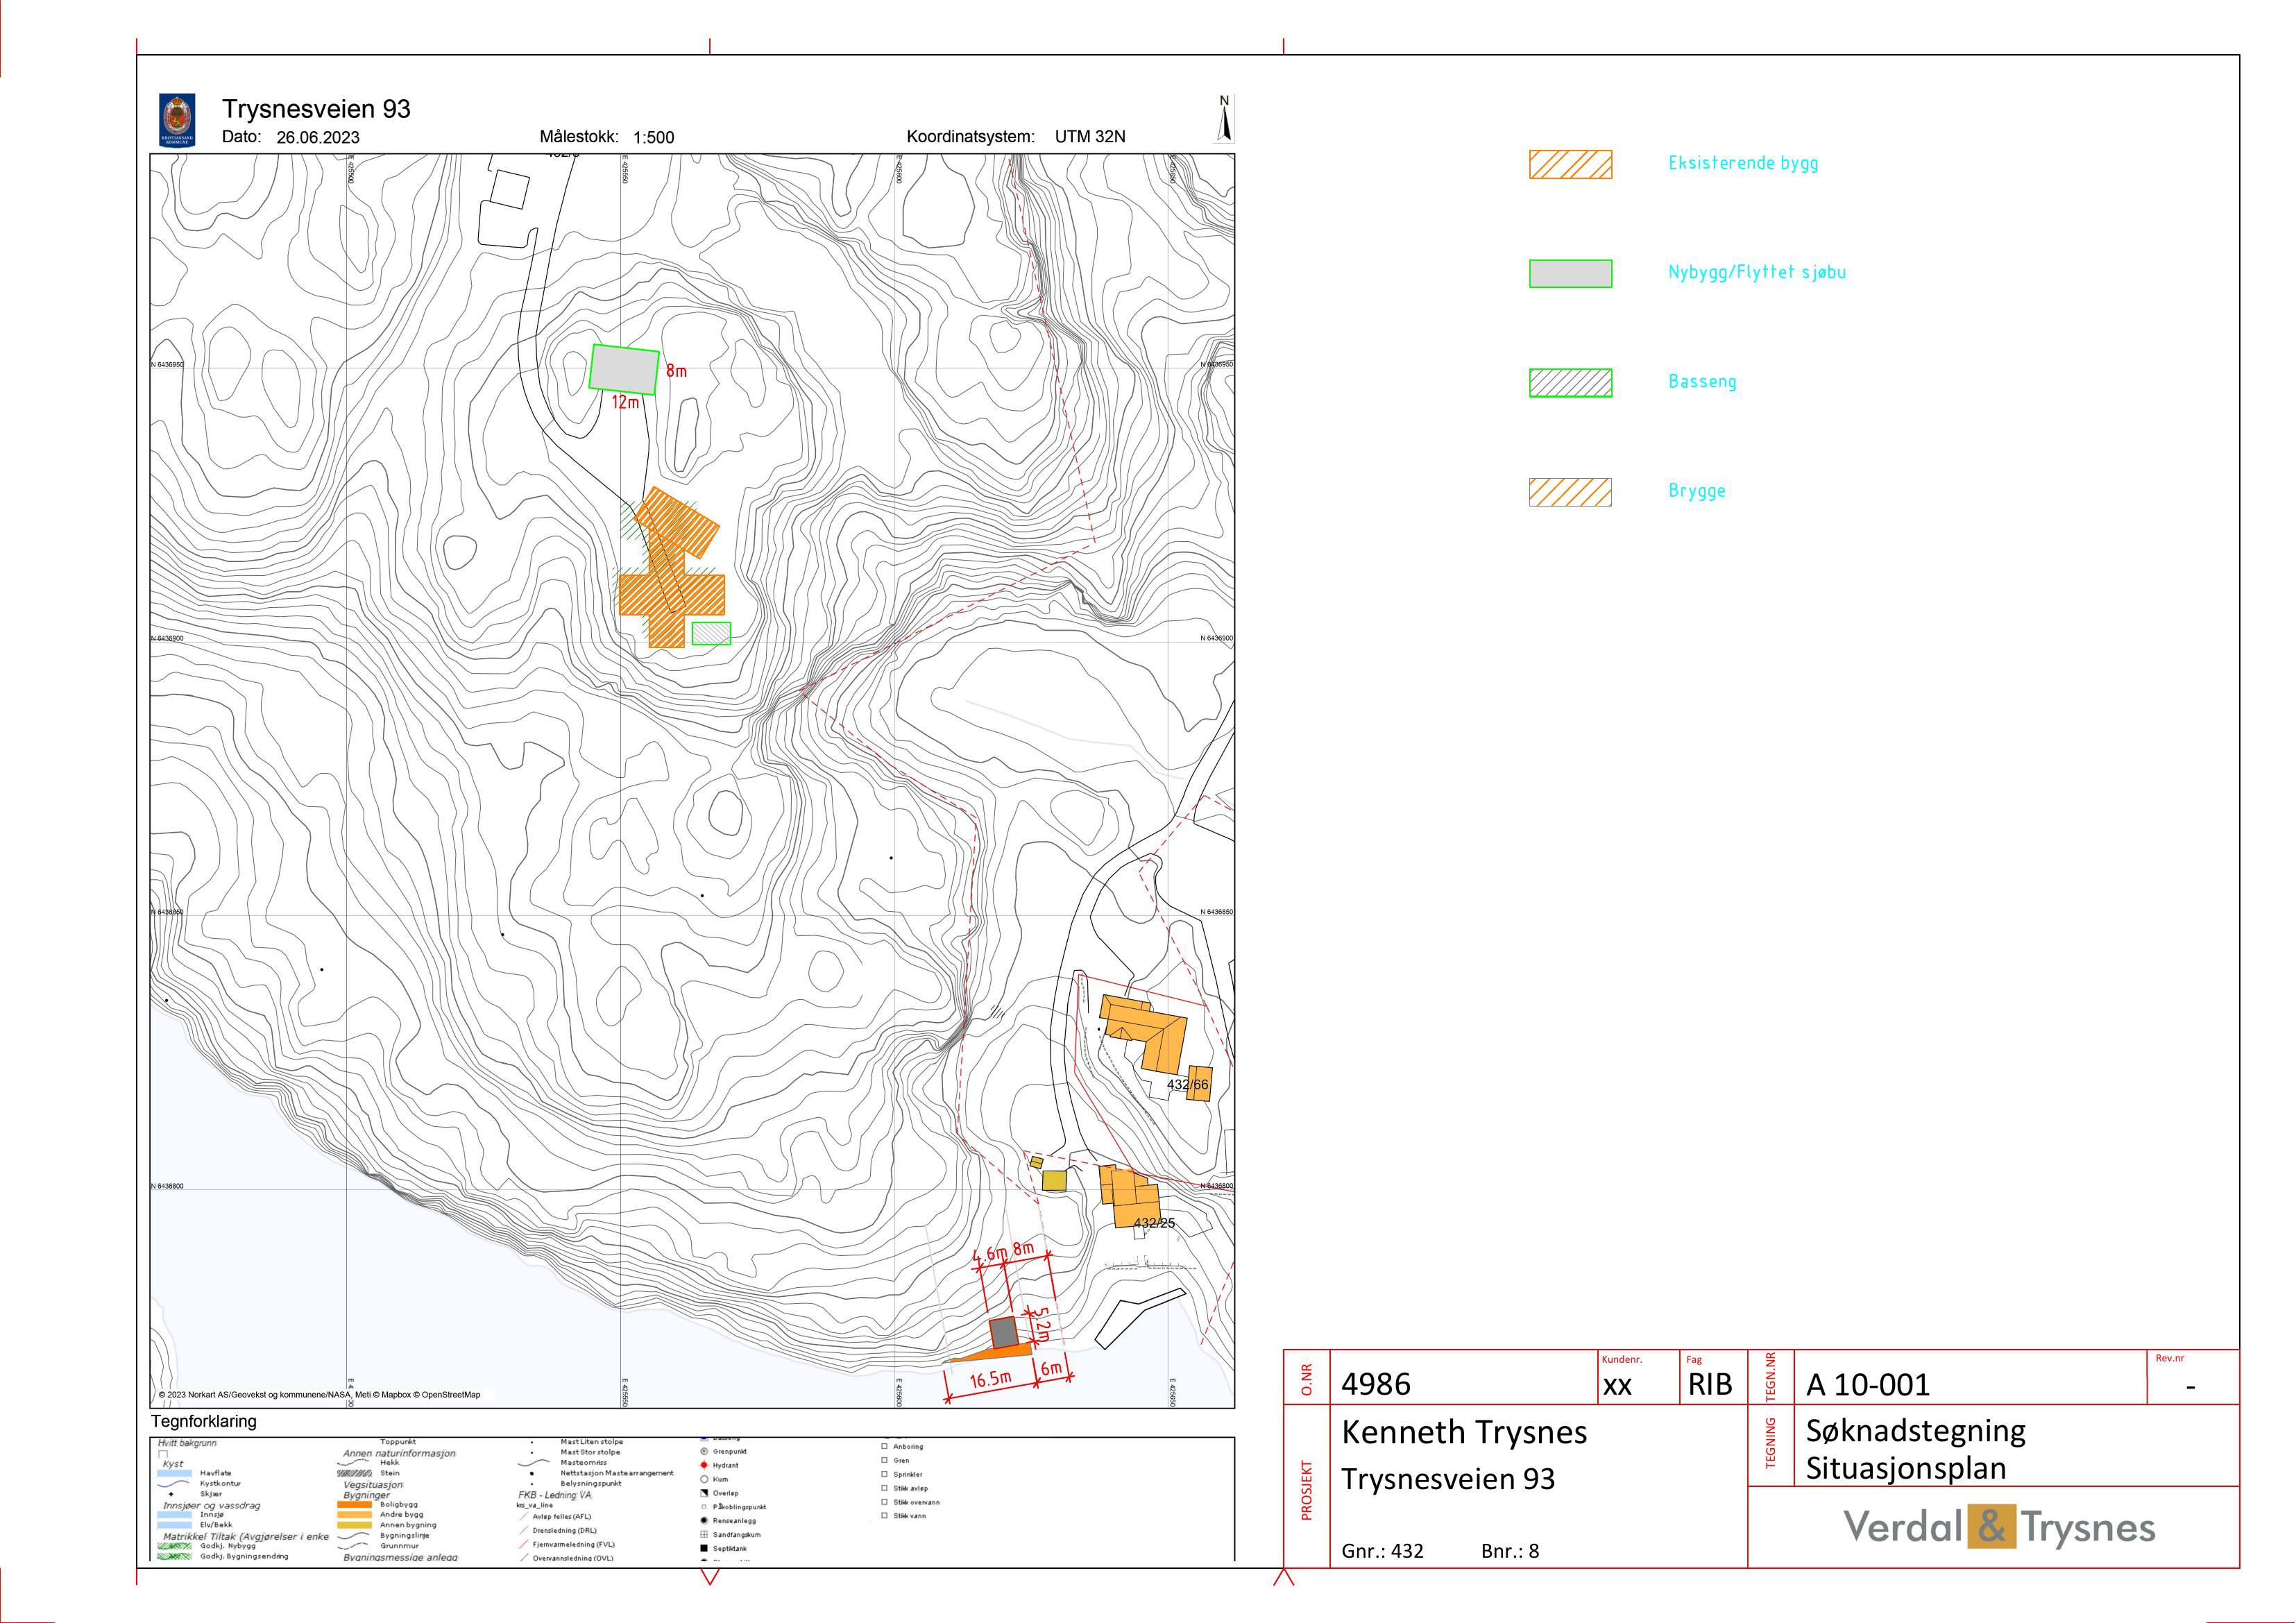situasjonskart: (142, 149, 1238, 1405)
